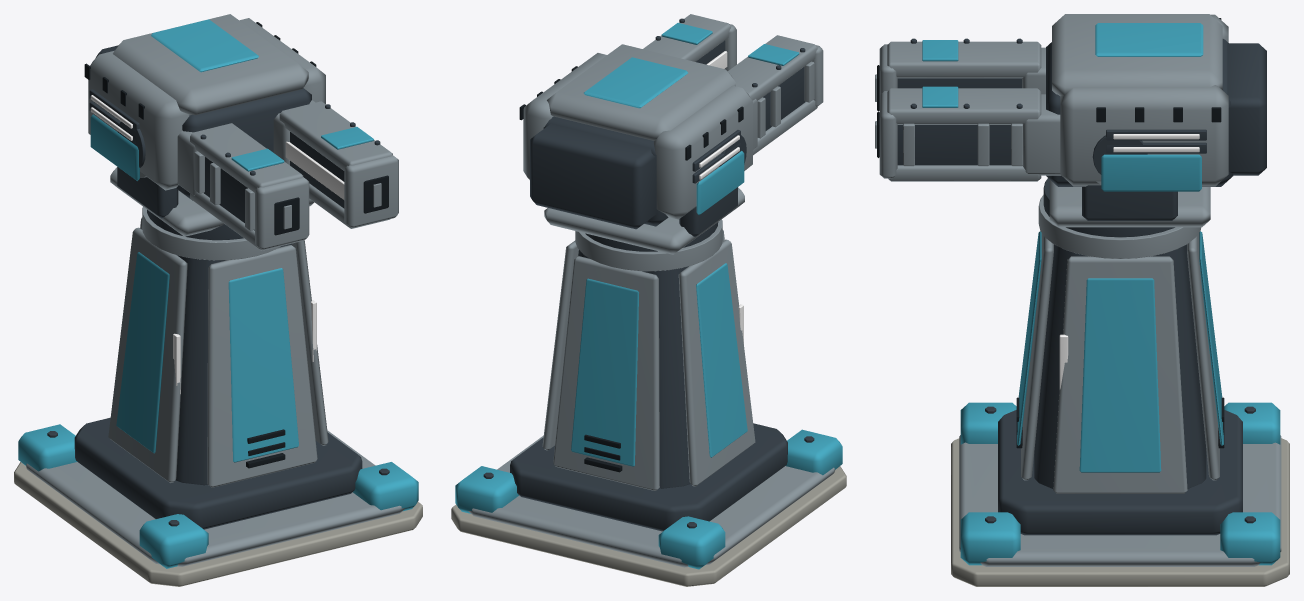
File: gauss-tower.glb
The picture shows the model from 3 angles, left to right: view 1: azimuth 30°, elevation 25°; view 2: azimuth 150°, elevation 25°; view 3: azimuth 270°, elevation 25°; orthographic projection. The views are drawn at different scales.
Parts seen in each view (by area): view 1: plinth, column-armor.001, owner-inlay.001, armored-pad, top-carapace, technical-pad, column-armor, owner-inlay, column-core, heavy-cheek, rail-top-armor.001, rail-top-armor (+25 smaller); view 2: plinth, column-armor.003, rear-capacitor, owner-inlay.003, armored-pad, technical-pad, top-carapace, column-armor, owner-inlay, heavy-cheek, column-core, yaw-deck (+18 smaller); view 3: owner-inlay.002, column-armor.002, plinth, armored-pad, heavy-cheek.001, technical-pad, top-carapace, column-core, rear-capacitor, rail-top-armor, rail-top-armor.001, side-owner-plate.001 (+27 smaller).
Boxes of the visible parts, x1=… form: plinth: x1=74, y1=417, x2=362, y2=529; column-armor.001: x1=207, y1=245, x2=317, y2=487; owner-inlay.001: x1=228, y1=268, x2=298, y2=462; armored-pad: x1=26, y1=430, x2=405, y2=566; top-carapace: x1=113, y1=14, x2=308, y2=115; technical-pad: x1=14, y1=462, x2=422, y2=586; column-armor: x1=108, y1=227, x2=187, y2=482; owner-inlay: x1=116, y1=252, x2=169, y2=453; column-core: x1=176, y1=243, x2=291, y2=485; heavy-cheek: x1=88, y1=50, x2=189, y2=190; rail-top-armor.001: x1=279, y1=101, x2=392, y2=170; rail-top-armor: x1=190, y1=123, x2=303, y2=192; plinth: x1=510, y1=423, x2=787, y2=531; column-armor.003: x1=553, y1=256, x2=659, y2=490; rear-capacitor: x1=530, y1=124, x2=656, y2=229; owner-inlay.003: x1=571, y1=278, x2=638, y2=466; armored-pad: x1=468, y1=435, x2=834, y2=567; technical-pad: x1=451, y1=466, x2=846, y2=586; top-carapace: x1=547, y1=44, x2=735, y2=140; column-armor: x1=678, y1=239, x2=755, y2=486; owner-inlay: x1=696, y1=263, x2=747, y2=457; heavy-cheek: x1=653, y1=85, x2=752, y2=219; column-core: x1=578, y1=250, x2=690, y2=488; yaw-deck: x1=544, y1=187, x2=744, y2=254; owner-inlay.002: x1=1079, y1=278, x2=1161, y2=472; column-armor.002: x1=1053, y1=256, x2=1187, y2=493; plinth: x1=998, y1=410, x2=1242, y2=535; armored-pad: x1=959, y1=435, x2=1281, y2=566; heavy-cheek.001: x1=1060, y1=85, x2=1228, y2=186; technical-pad: x1=951, y1=438, x2=1289, y2=586; top-carapace: x1=1052, y1=14, x2=1222, y2=95; column-core: x1=1034, y1=244, x2=1206, y2=488; rear-capacitor: x1=1227, y1=43, x2=1266, y2=175; rail-top-armor: x1=887, y1=41, x2=1041, y2=78; rail-top-armor.001: x1=887, y1=88, x2=1041, y2=124; side-owner-plate.001: x1=1101, y1=154, x2=1201, y2=191.
Size of the model in its own units: 1.41 by 2.2 by 1.73.
